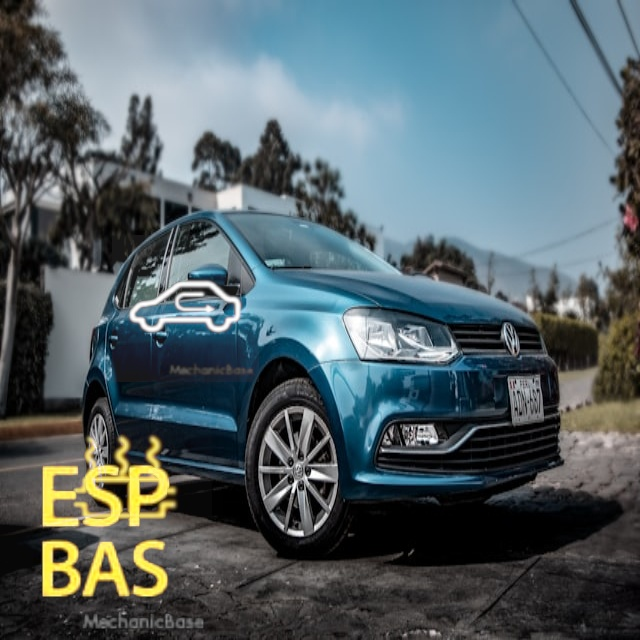symbol: (0, 427, 212, 639), (26, 380, 223, 577), (112, 235, 259, 382)
